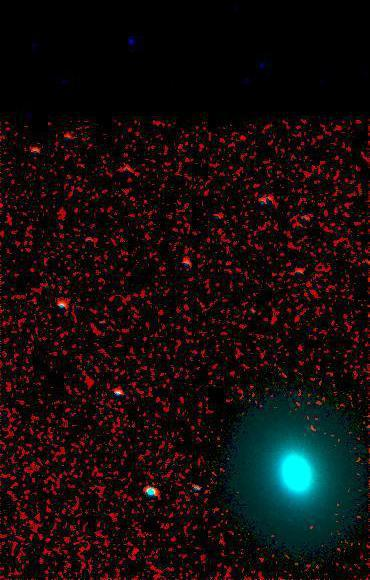star: (297, 513, 327, 543)
